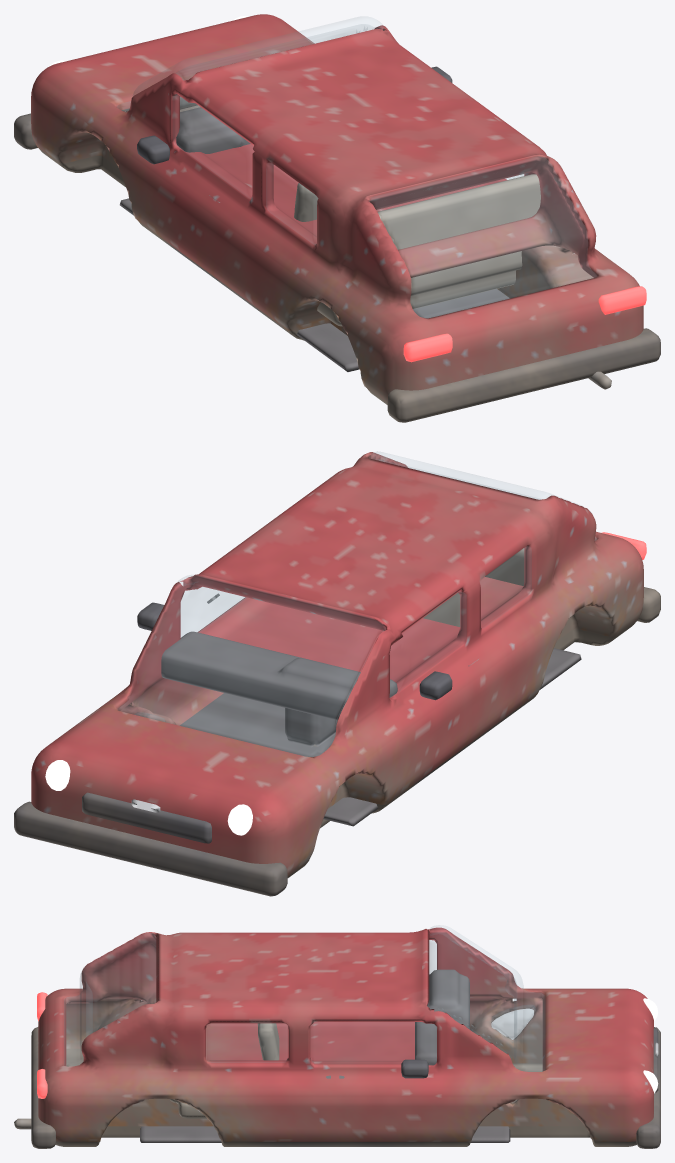
File: car_body.glb
The picture shows the model from 3 angles, top to bottom: view 1: azimuth 30°, elevation 25°; view 2: azimuth 150°, elevation 25°; view 3: azimuth 270°, elevation 25°; orthographic projection. The views are drawn at different scales.
Size of the model in its own units: 2.06 by 1.16 by 4.71.
